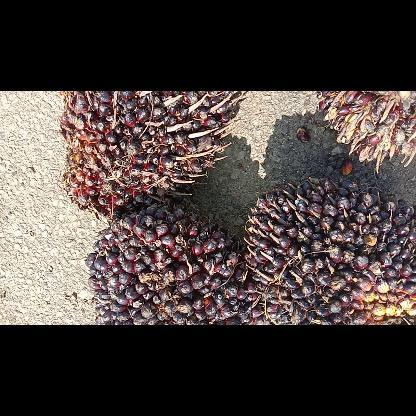TBS mentah: (243, 178, 415, 324), (86, 204, 290, 324), (58, 90, 242, 218), (316, 92, 416, 172)
